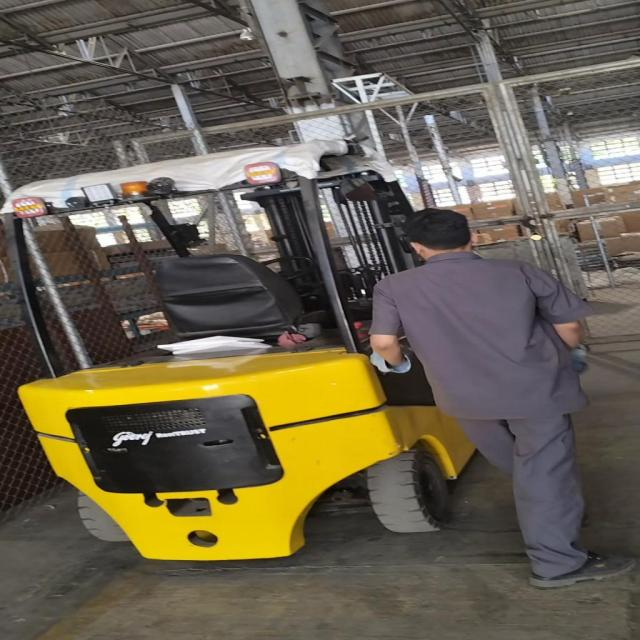Gloves-Detection: (371, 353, 414, 379)
